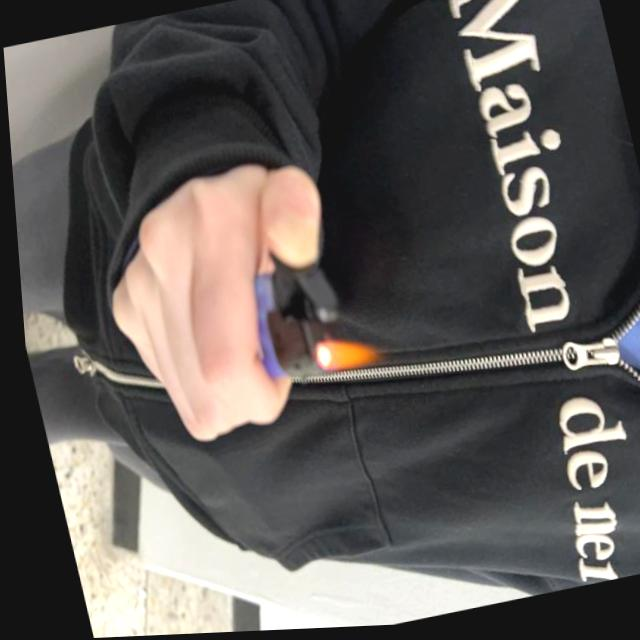helmet: (304, 331, 381, 378)
